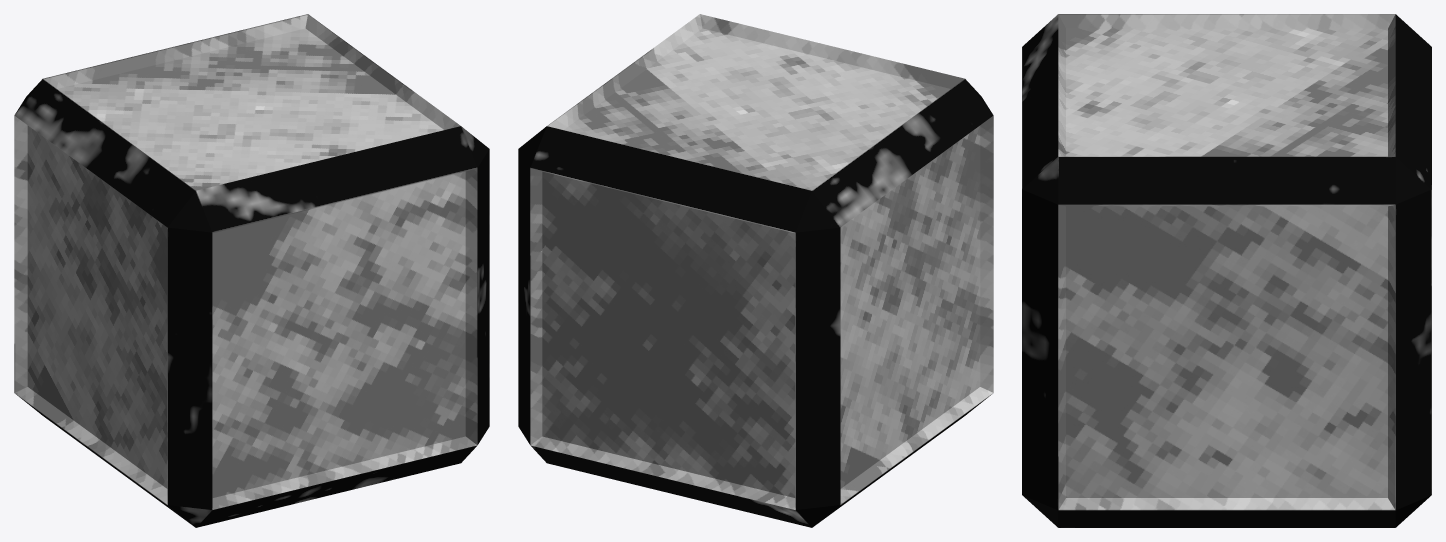
Rendered from MetalBox.fbx.
3 renders of one model, left to right at view 1: azimuth 30°, elevation 25°; view 2: azimuth 150°, elevation 25°; view 3: azimuth 270°, elevation 25°, orthographic. The views are drawn at different scales.
Visible parts, largest first — view 1: Cube; view 2: Cube; view 3: Cube.
Part boxes in pixels (x1,y1,x2,y2): Cube: (14,14,489,527); Cube: (518,14,993,527); Cube: (1022,14,1431,527).
Bounding box in the file's own units: 26.64 × 26.64 × 26.64.
Materials: 1 (1 with a texture image).
